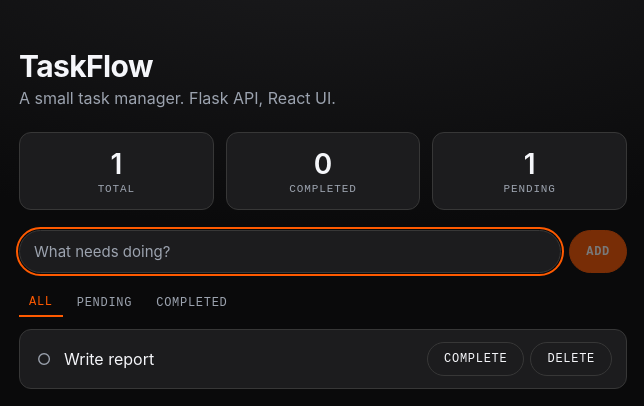
Scenario: App › deletes a task and refreshes the list
Expected: the text "Write report" is shown, [64,349,154,369]
Step 1. Click the button "Delete" → {"x": 571, "y": 359}, box [530,342,612,376]
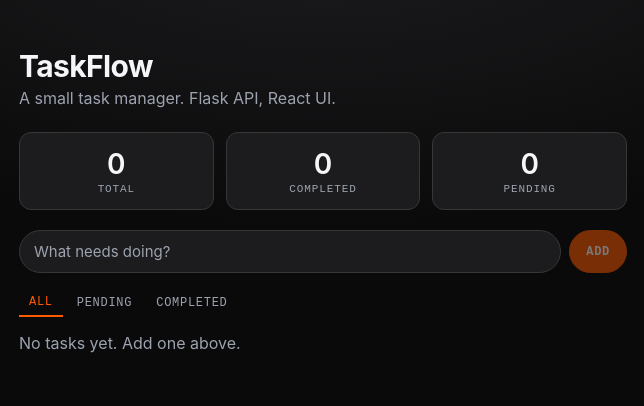
Expected: the text "No tasks yet. Add one above." is shown, [19,333,241,353]
